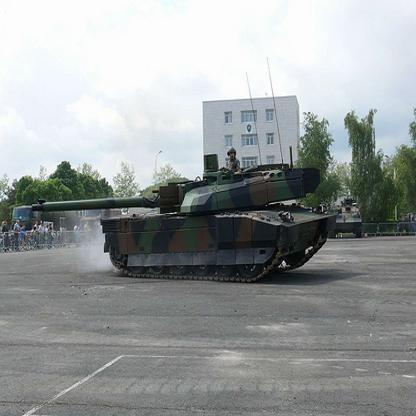Tank: (27, 150, 347, 294)
